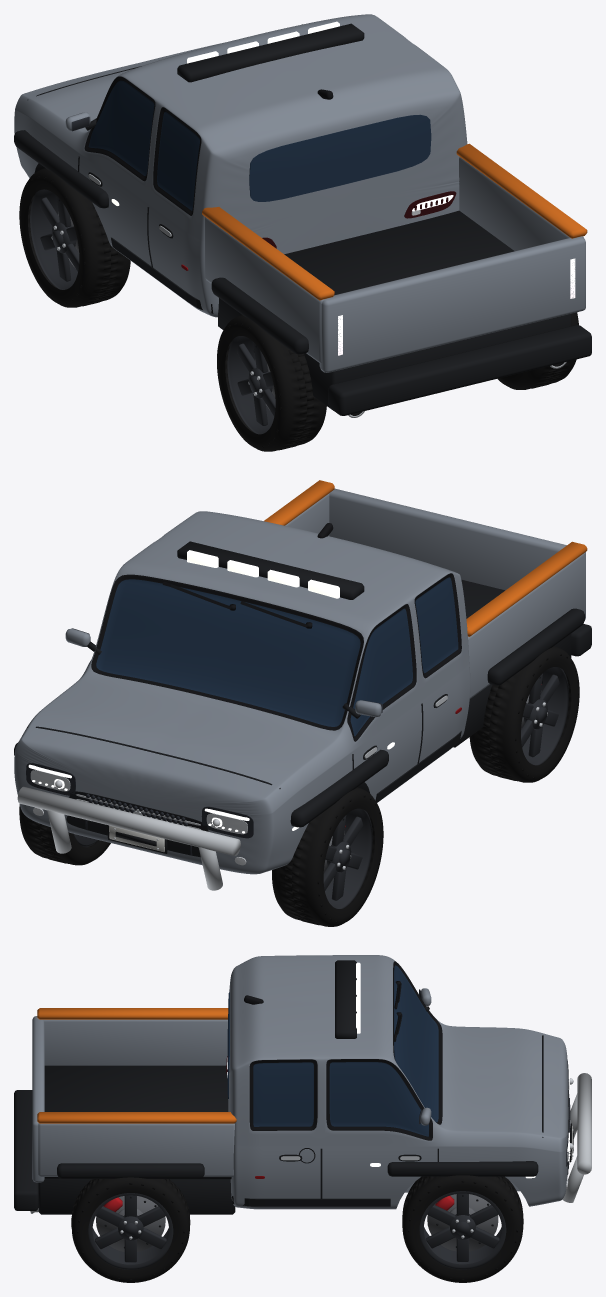
File: rhino.glb
3 renders of one model, top to bottom at view 1: azimuth 30°, elevation 25°; view 2: azimuth 150°, elevation 25°; view 3: azimuth 270°, elevation 25°, orthographic. The views are drawn at different scales.
Parts seen in each view (by area): view 1: Body, Wheel_RL, Wheel_FL, Wheel_RR; view 2: Body, Wheel_FL, Wheel_RL, Wheel_FR; view 3: Body, Wheel_FR, Wheel_RR.
Boxes of the visible parts, left/top/right/bottom form: Body: left=14, top=14, right=591, bottom=417; Wheel_RL: left=217, top=315, right=326, bottom=451; Wheel_FL: left=19, top=168, right=130, bottom=307; Wheel_RR: left=497, top=312, right=578, bottom=389; Body: left=14, top=480, right=591, bottom=890; Wheel_FL: left=272, top=787, right=383, bottom=926; Wheel_RL: left=469, top=646, right=579, bottom=782; Wheel_FR: left=19, top=804, right=110, bottom=865; Body: left=14, top=955, right=591, bottom=1214; Wheel_FR: left=402, top=1175, right=523, bottom=1282; Wheel_RR: left=71, top=1177, right=190, bottom=1282.
Size of what is drawn, in the model's own units: 2.49 by 2.07 by 4.7.
